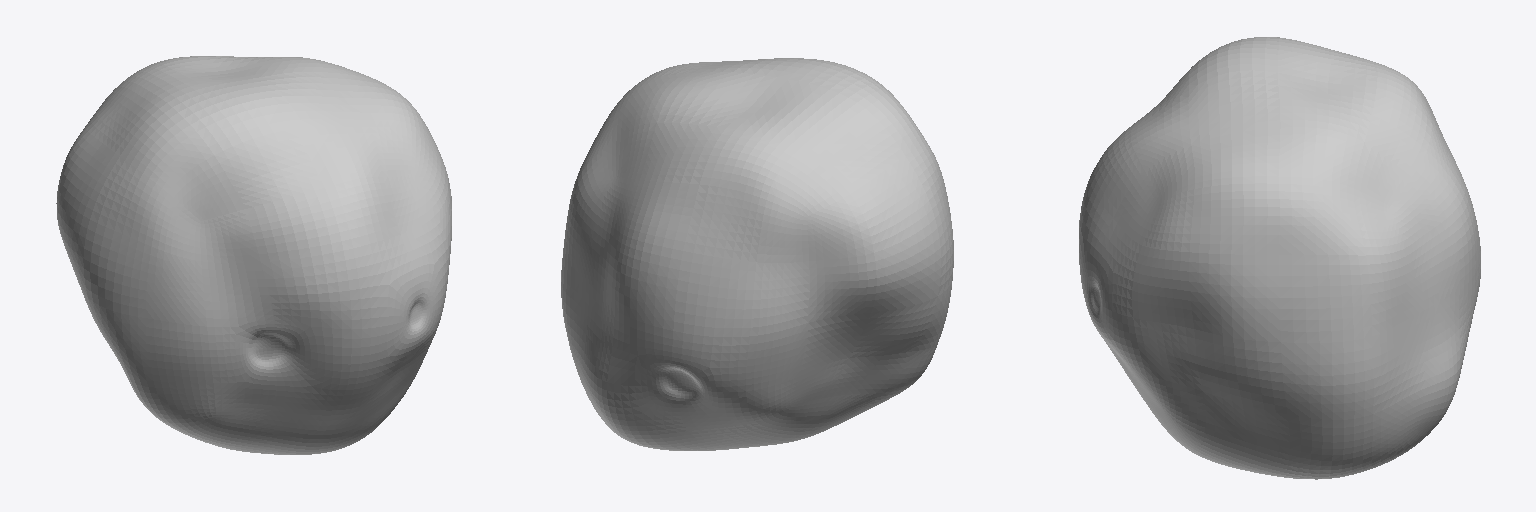
Rendered from 10464_Asteroid_v1_Iterations-2.obj.
3 views of the same model, side by side, from view 1: azimuth 30°, elevation 25°; view 2: azimuth 150°, elevation 25°; view 3: azimuth 270°, elevation 25° (orthographic).
Parts seen in each view (by area): view 1: 10464_Asteroid_v1_Iterations-2; view 2: 10464_Asteroid_v1_Iterations-2; view 3: 10464_Asteroid_v1_Iterations-2.
Part boxes in pixels (x1,y1,x2,y2): 10464_Asteroid_v1_Iterations-2: (56,56,451,454); 10464_Asteroid_v1_Iterations-2: (561,58,953,450); 10464_Asteroid_v1_Iterations-2: (1079,37,1480,479).
Bounding box in the file's own units: 99.67 × 101 × 100.